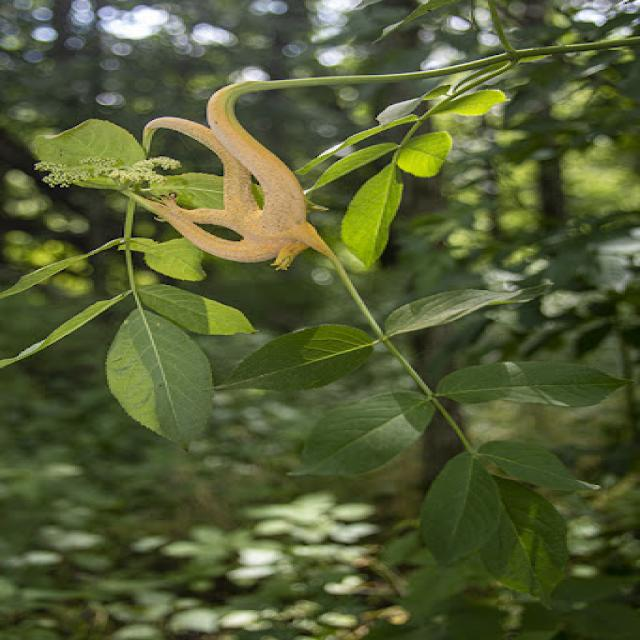Elderberry_rust: (132, 82, 342, 272)
